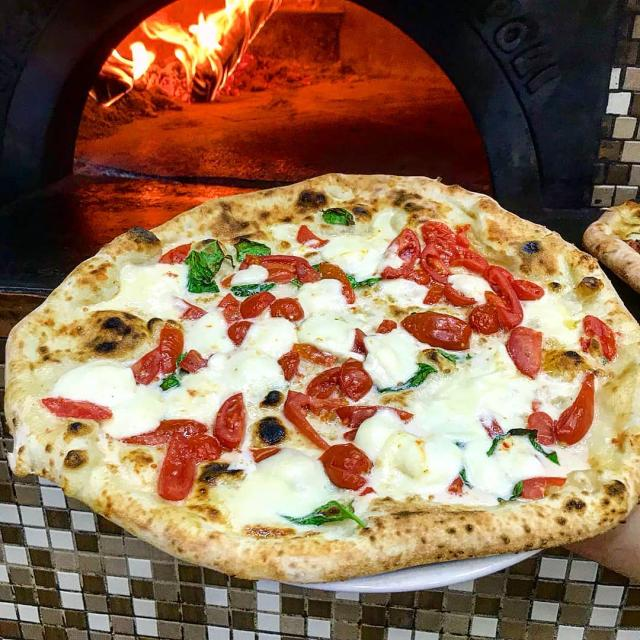basil: (375, 357, 451, 396), (269, 500, 366, 530), (502, 426, 562, 466), (186, 240, 225, 297), (234, 233, 270, 260), (343, 267, 384, 289), (322, 205, 357, 229), (498, 480, 526, 502), (438, 349, 476, 364), (154, 375, 182, 394), (456, 464, 476, 486), (484, 436, 498, 458), (174, 353, 190, 368)
pizza: (0, 169, 640, 586), (580, 196, 640, 291)
tomatoes: (284, 384, 414, 448), (372, 219, 489, 278), (276, 340, 376, 402), (215, 290, 277, 348), (316, 441, 377, 496), (399, 309, 474, 352), (556, 369, 597, 446), (157, 316, 211, 374), (492, 268, 544, 328), (235, 253, 324, 288), (154, 433, 198, 503), (37, 392, 117, 423), (122, 420, 206, 448), (412, 278, 475, 314), (215, 391, 252, 449), (577, 312, 617, 363), (506, 329, 544, 379), (324, 256, 358, 305), (130, 343, 164, 387), (524, 401, 555, 447), (513, 476, 573, 498), (268, 290, 304, 324), (172, 292, 210, 324), (292, 219, 330, 251), (192, 432, 223, 464), (473, 407, 503, 438), (155, 240, 192, 264), (350, 325, 370, 359), (474, 310, 501, 334), (374, 316, 398, 337), (250, 448, 282, 462), (450, 474, 464, 496)
